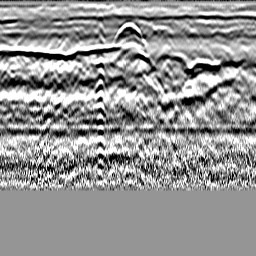cavity: (112, 20, 145, 43)
